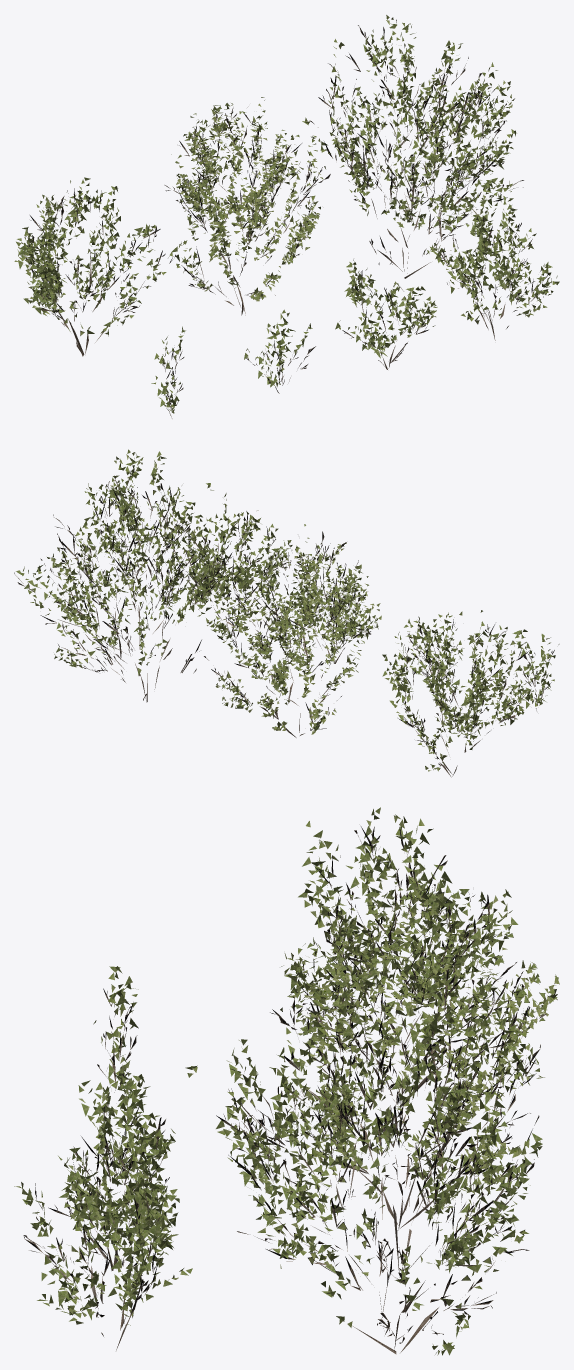
File: searsia_lucida.glb
The picture shows the model from 3 angles, top to bottom: view 1: azimuth 30°, elevation 25°; view 2: azimuth 150°, elevation 25°; view 3: azimuth 270°, elevation 25°; orthographic projection. The views are drawn at different scales.
Parts seen in each view (by area): view 1: searsia_lucida_a_LOD0; view 2: searsia_lucida_a_LOD0; view 3: searsia_lucida_a_LOD0.
Boxes of the visible parts, left/top/right/bottom form: searsia_lucida_a_LOD0: left=14, top=15, right=559, bottom=418; searsia_lucida_a_LOD0: left=14, top=449, right=559, bottom=777; searsia_lucida_a_LOD0: left=14, top=807, right=559, bottom=1355.
Bounding box in the file's own units: 4.76 × 2.28 × 2.79.
Materials: 3 (3 with a texture image).
